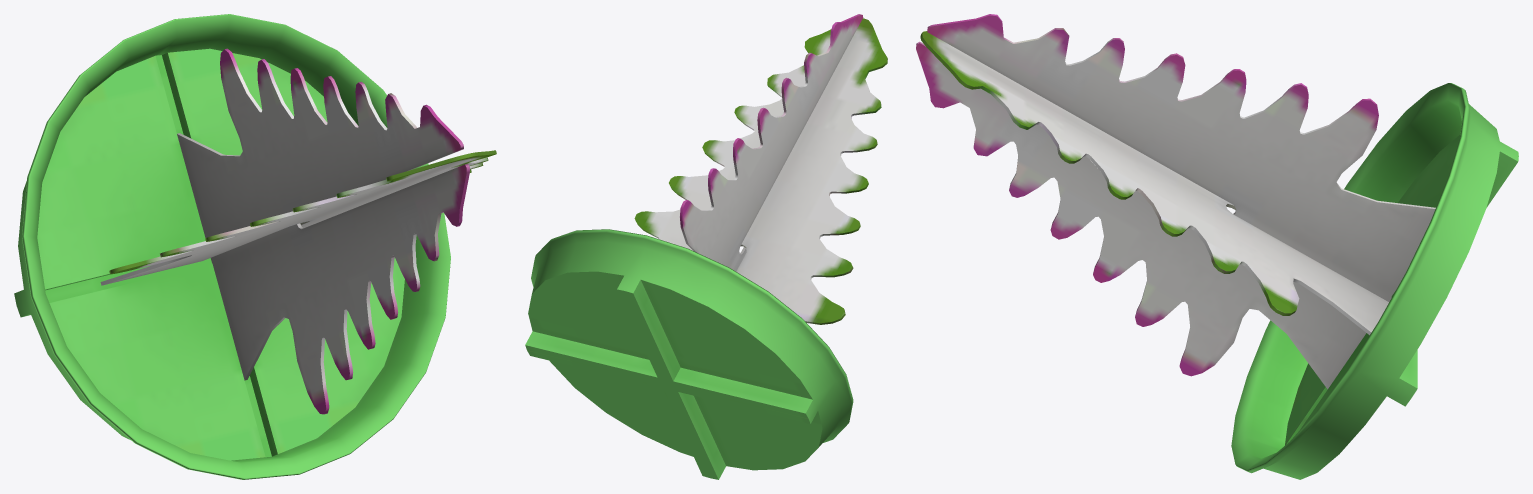
File: ref_gtpapertree.glb
3 renders of one model, left to right at view 1: azimuth 30°, elevation 25°; view 2: azimuth 150°, elevation 25°; view 3: azimuth 270°, elevation 25°, orthographic. The views are drawn at different scales.
Visible parts, largest first — view 1: ref_gtpapertree_part0; view 2: ref_gtpapertree_part0; view 3: ref_gtpapertree_part0.
Part boxes in pixels (x1=…): ref_gtpapertree_part0: x1=14, y1=14, x2=496, y2=479; ref_gtpapertree_part0: x1=525, y1=14, x2=887, y2=479; ref_gtpapertree_part0: x1=916, y1=14, x2=1518, y2=479.
Size of the model in its own units: 0.7358 by 0.8305 by 1.
1 material, 1 textured.
